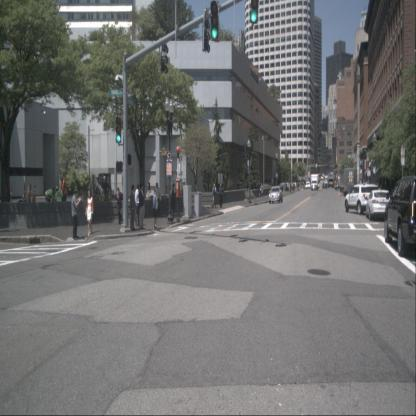human-pedestrian-adult: (71, 188, 82, 240), (85, 190, 94, 236), (138, 184, 146, 230), (129, 184, 136, 230), (134, 185, 141, 229), (116, 187, 124, 225), (154, 182, 162, 217), (171, 183, 177, 224), (153, 188, 158, 230), (218, 183, 224, 208), (211, 184, 216, 208), (260, 183, 264, 197)
movable_object-trafficcone: (338, 190, 340, 197)
vehicle-car: (384, 175, 416, 257), (344, 184, 380, 214), (366, 190, 394, 221), (268, 186, 283, 204), (334, 181, 346, 191), (305, 181, 311, 190), (322, 182, 327, 190)
vehicle-truck: (343, 168, 357, 196), (339, 173, 349, 193), (310, 173, 319, 191), (328, 173, 334, 188)
